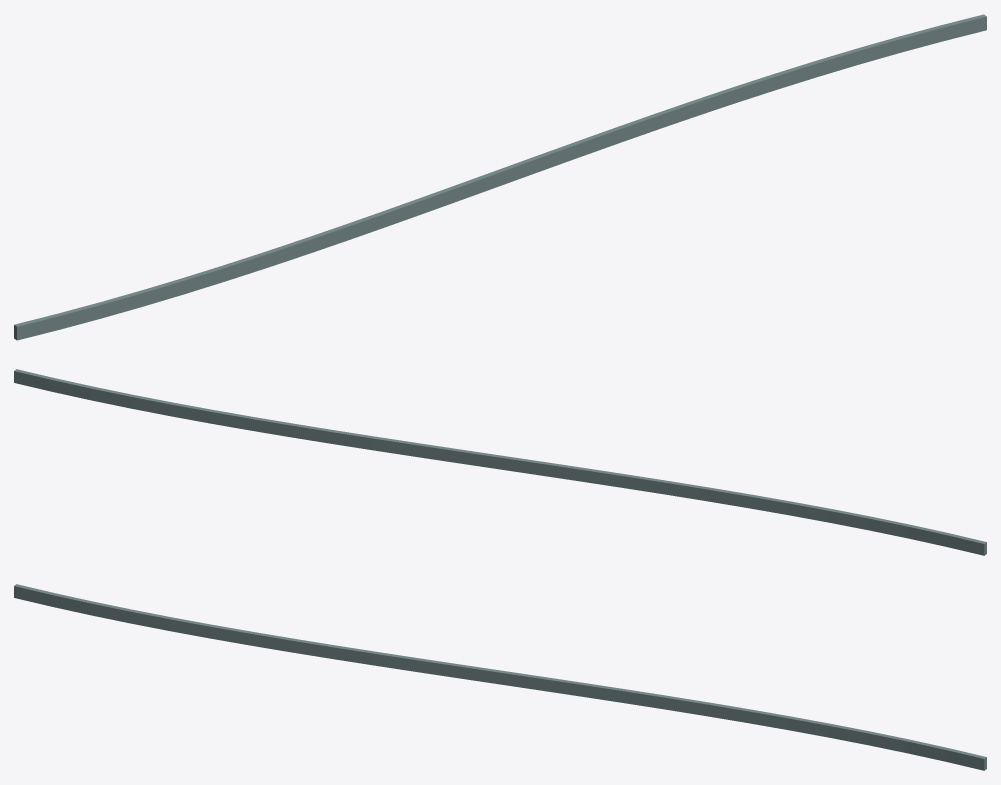
The model's file is RoadPlan_WalkTransition_4L_2L_Curb_-1.glb.
3 views of the same model, one above another, from view 1: azimuth 30°, elevation 25°; view 2: azimuth 150°, elevation 25°; view 3: azimuth 330°, elevation 25° (orthographic). The views are drawn at different scales.
Parts seen in each view (by area): view 1: RoadPlan_WalkTransition_4L_2L_Curb_-1; view 2: RoadPlan_WalkTransition_4L_2L_Curb_-1; view 3: RoadPlan_WalkTransition_4L_2L_Curb_-1.
Part boxes in pixels (box(x1,y1,x2,y2)): RoadPlan_WalkTransition_4L_2L_Curb_-1: box(14, 14, 986, 340); RoadPlan_WalkTransition_4L_2L_Curb_-1: box(14, 369, 986, 555); RoadPlan_WalkTransition_4L_2L_Curb_-1: box(14, 584, 986, 770).
Size of the model in its own units: 24 by 0.3 by 3.12.
